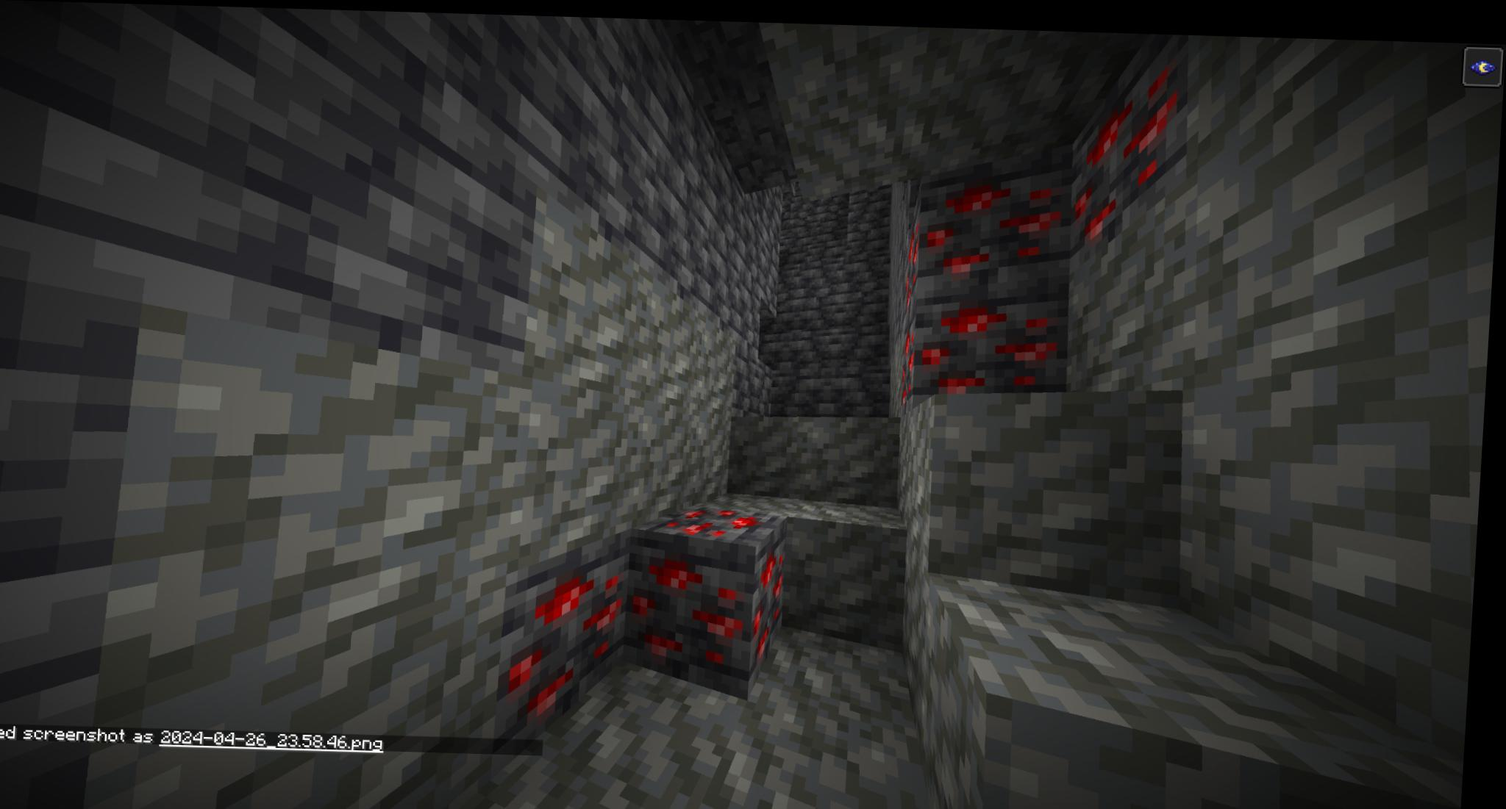redstone ore: (517, 562, 634, 716), (908, 171, 1066, 284), (1074, 79, 1183, 231), (636, 542, 762, 670), (926, 295, 1072, 393), (760, 529, 795, 667), (672, 500, 766, 536)
